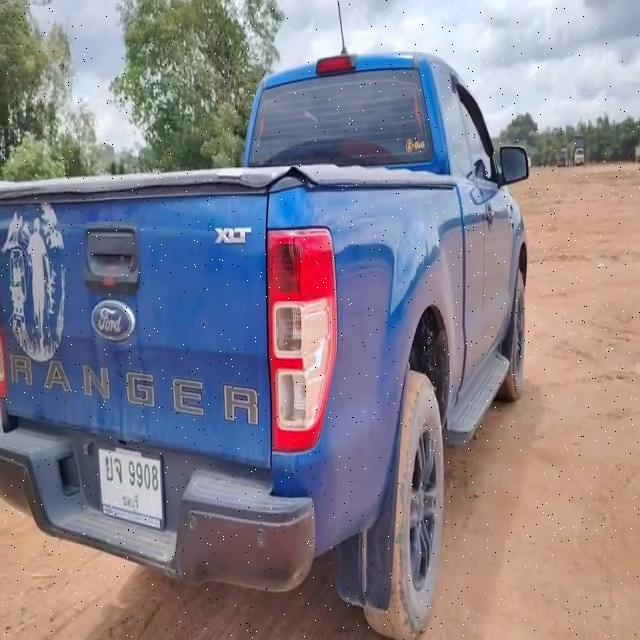Digit: (128, 458, 160, 494)
Licenseplate: (97, 442, 166, 528)
Provincename: (120, 491, 142, 515)
Thaichar: (105, 452, 122, 484)
